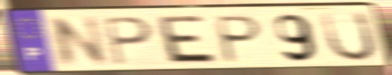9: (273, 12, 319, 64)
E: (157, 14, 221, 66)
N: (49, 15, 111, 70)
P: (101, 16, 156, 68), (216, 14, 265, 65)
U: (319, 10, 379, 64)
